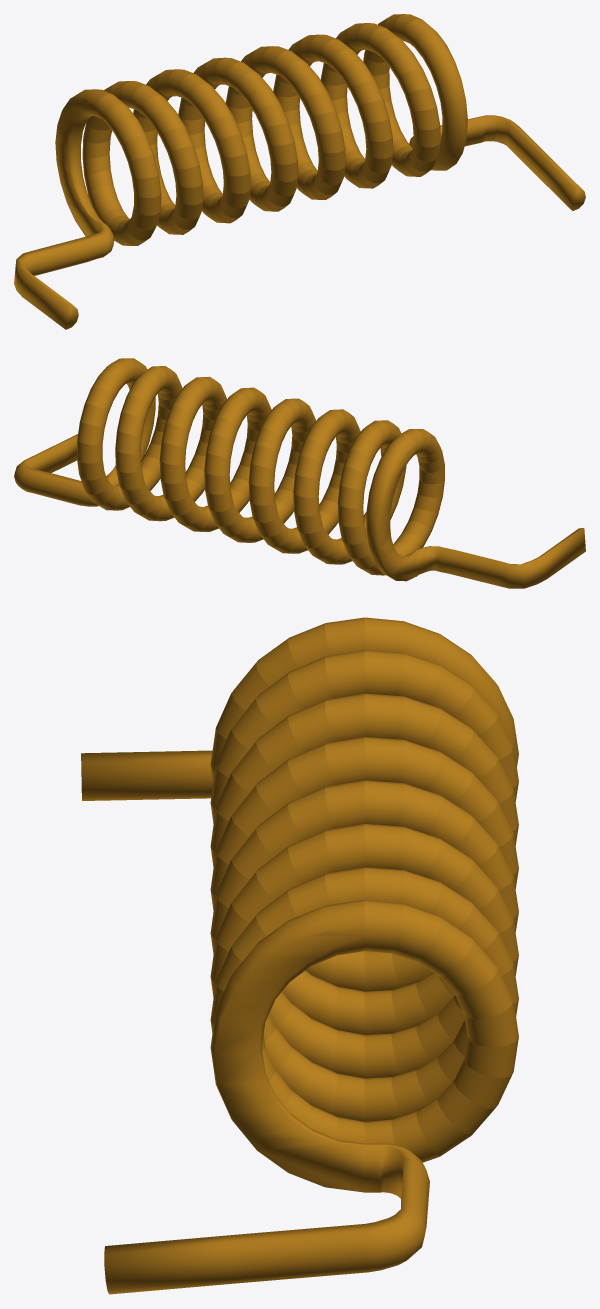
Rendered from Inductor-Base.fbx.
The picture shows the model from 3 angles, top to bottom: view 1: azimuth 30°, elevation 25°; view 2: azimuth 150°, elevation 25°; view 3: azimuth 270°, elevation 25°; orthographic projection. The views are drawn at different scales.
Parts seen in each view (by area): view 1: Capacitor1.001; view 2: Capacitor1.001; view 3: Capacitor1.001.
Boxes of the visible parts, x1,y1,x2,y2 form: Capacitor1.001: (14, 14, 585, 329); Capacitor1.001: (14, 358, 585, 588); Capacitor1.001: (81, 617, 518, 1294).
Size of the model in its own units: 199 by 58.89 by 75.82.
